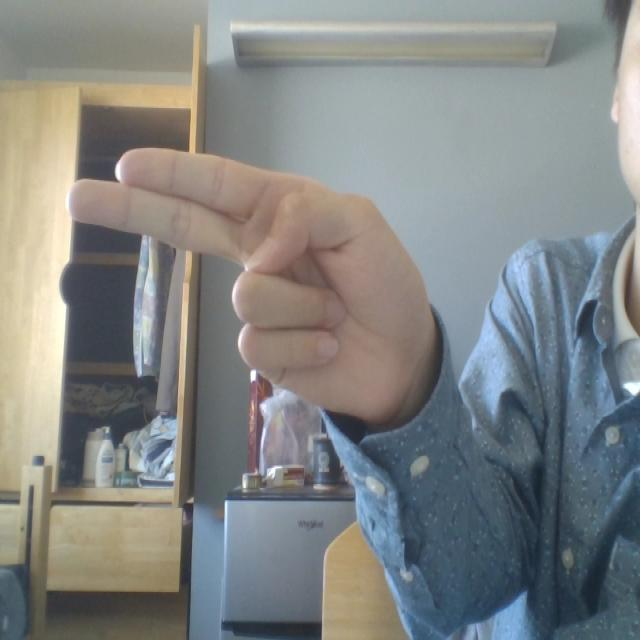H: (54, 71, 444, 433)
